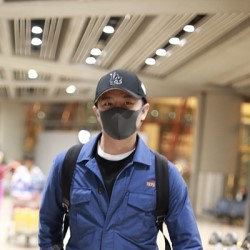mask: (91, 99, 147, 145)
